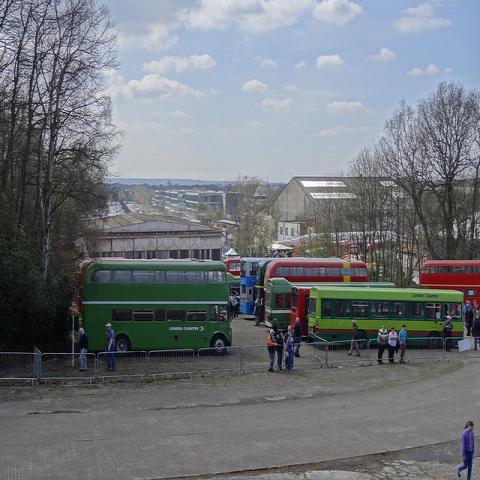bus: (78, 257, 232, 355), (308, 290, 464, 342), (256, 257, 370, 323), (265, 281, 393, 328), (240, 256, 304, 314), (419, 259, 479, 306), (291, 284, 311, 336), (223, 258, 242, 277)
